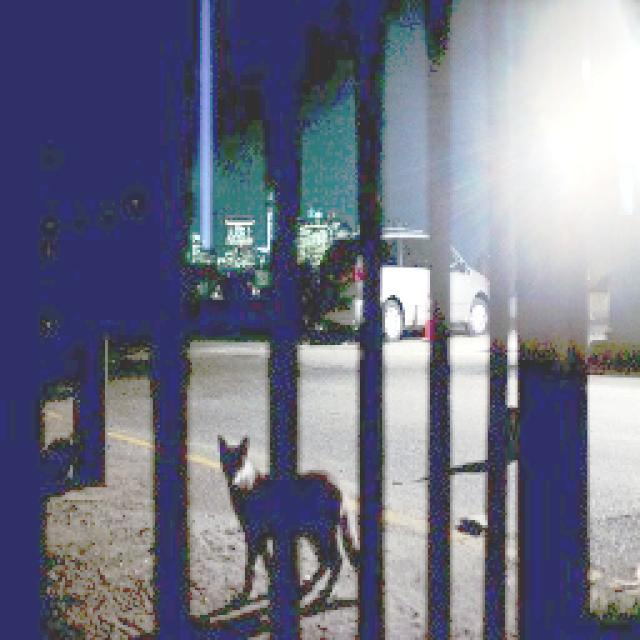cat: (215, 399, 372, 609)
